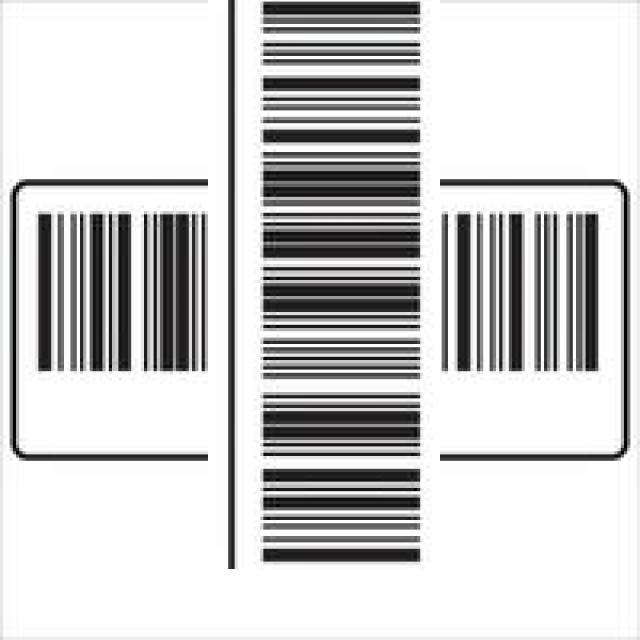Barkod: (118, 70, 530, 480)
